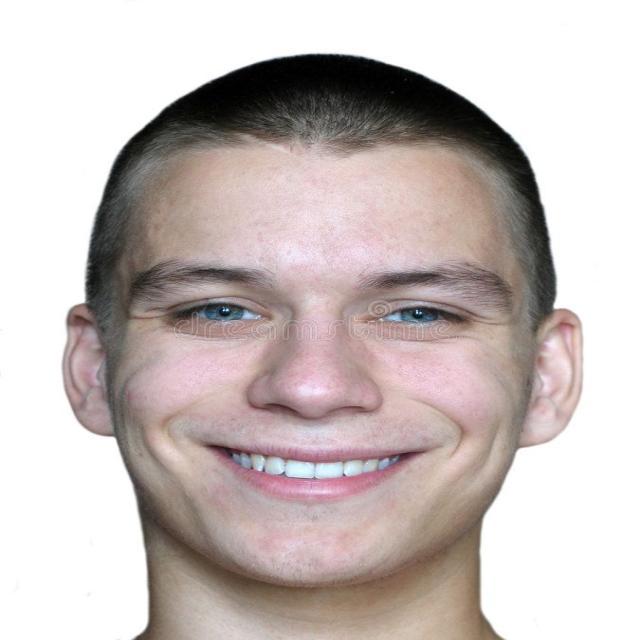sem_oculos: (38, 252, 593, 404)
